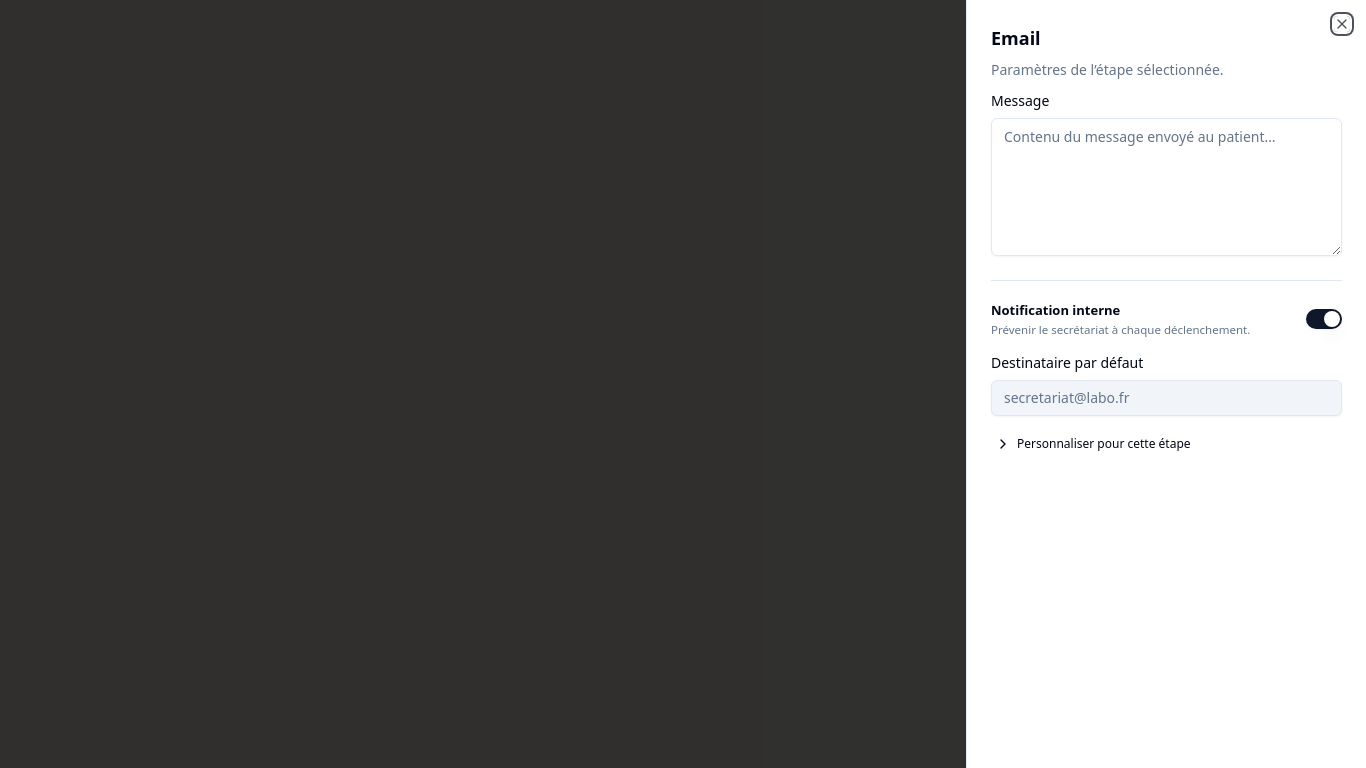
Scenario: NodeSidePanel › reveals the override warning + field when the disclosure is expanded
This screenshot has width=1366, height=768.
Click the button "Personnaliser pour cette étape": (1093, 444) x1=983 y1=428 x2=1202 y2=460
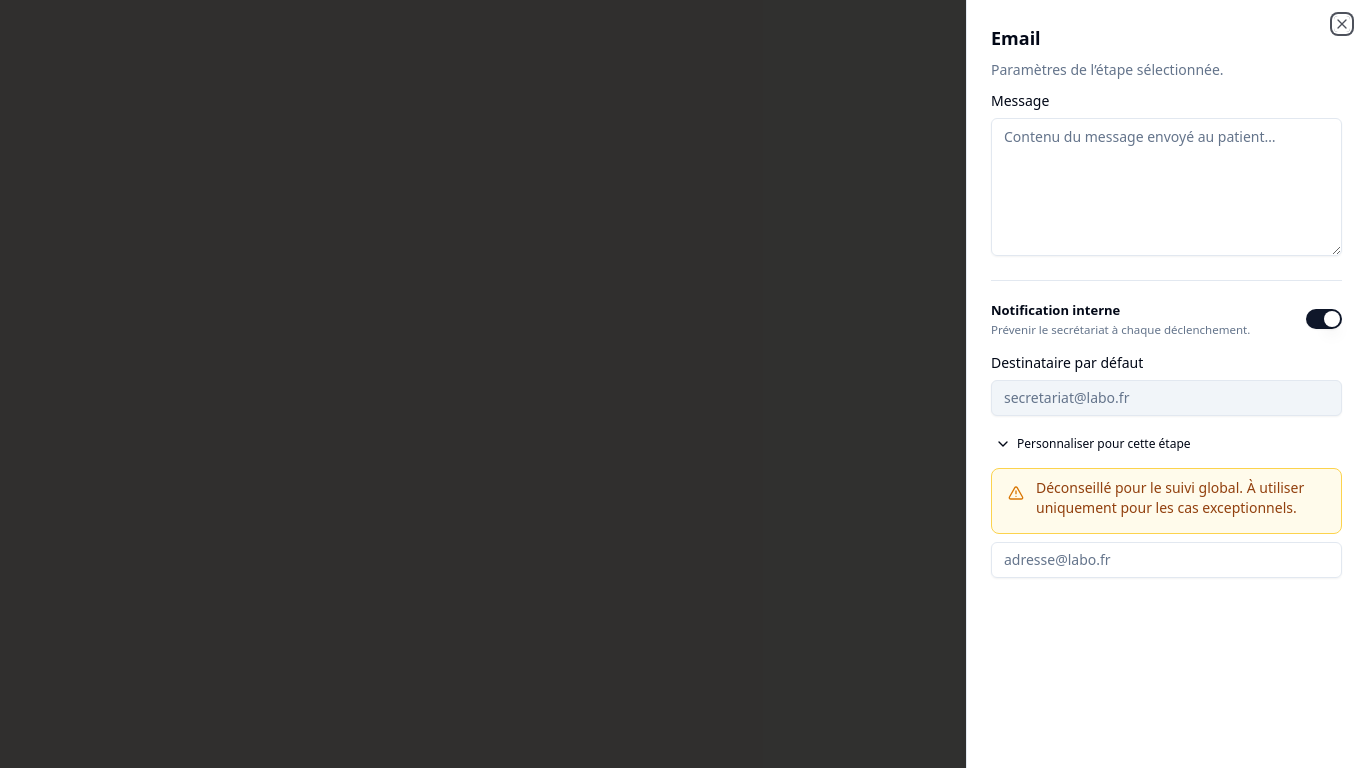
Expected: the text "Déconseillé pour le suivi global" is shown, x1=1036 y1=478 x2=1304 y2=517
Expected: the field named "Adresse e-mail personnalisée" is shown, x1=991 y1=542 x2=1342 y2=578
